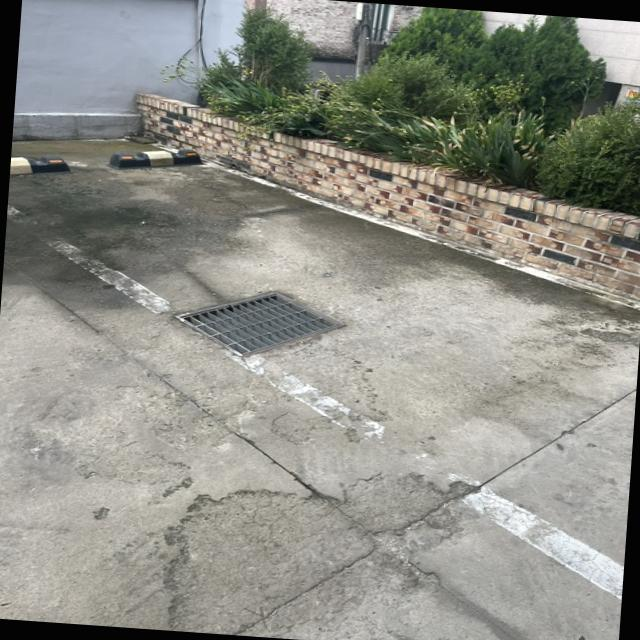drain_area: (180, 295, 340, 353)
drain_full: (179, 293, 341, 354)
